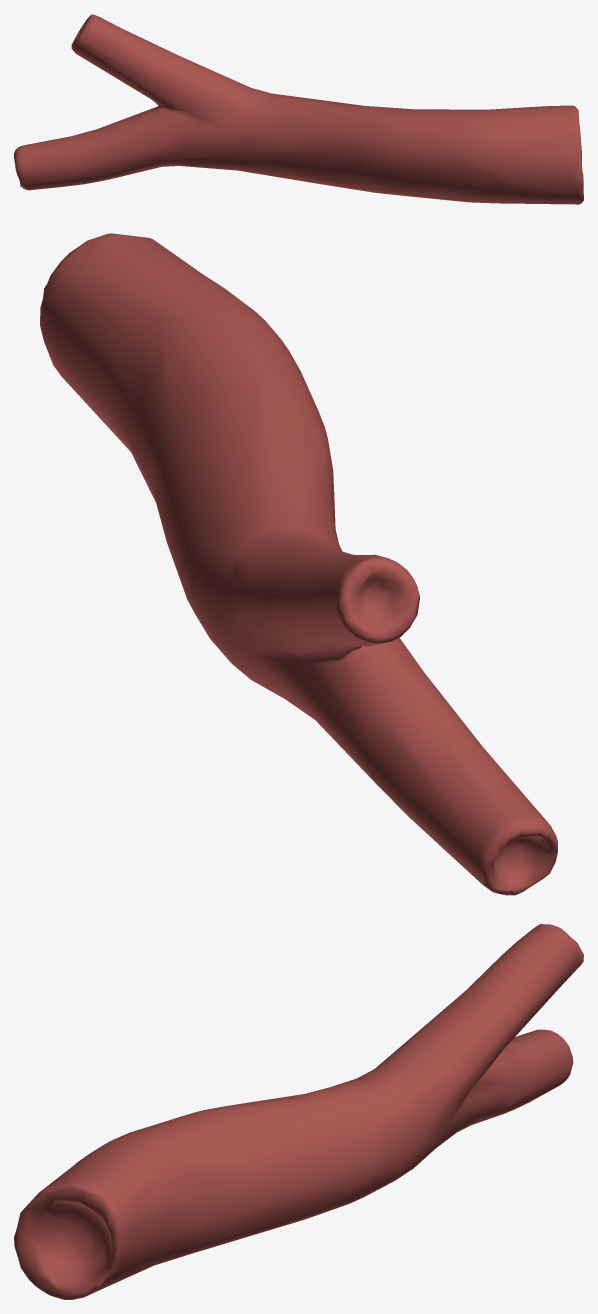
The model's file is FMA14335.glb.
The picture shows the model from 3 angles, top to bottom: view 1: azimuth 30°, elevation 25°; view 2: azimuth 150°, elevation 25°; view 3: azimuth 270°, elevation 25°; orthographic projection. The views are drawn at different scales.
Parts seen in each view (by area): view 1: FMA14335; view 2: FMA14335; view 3: FMA14335.
Part boxes in pixels (x1,y1,x2,y2): FMA14335: [14, 14, 583, 204]; FMA14335: [40, 233, 557, 895]; FMA14335: [14, 924, 583, 1299].
Bounding box in the file's own units: 0.0519 × 0.0185 × 0.046.
